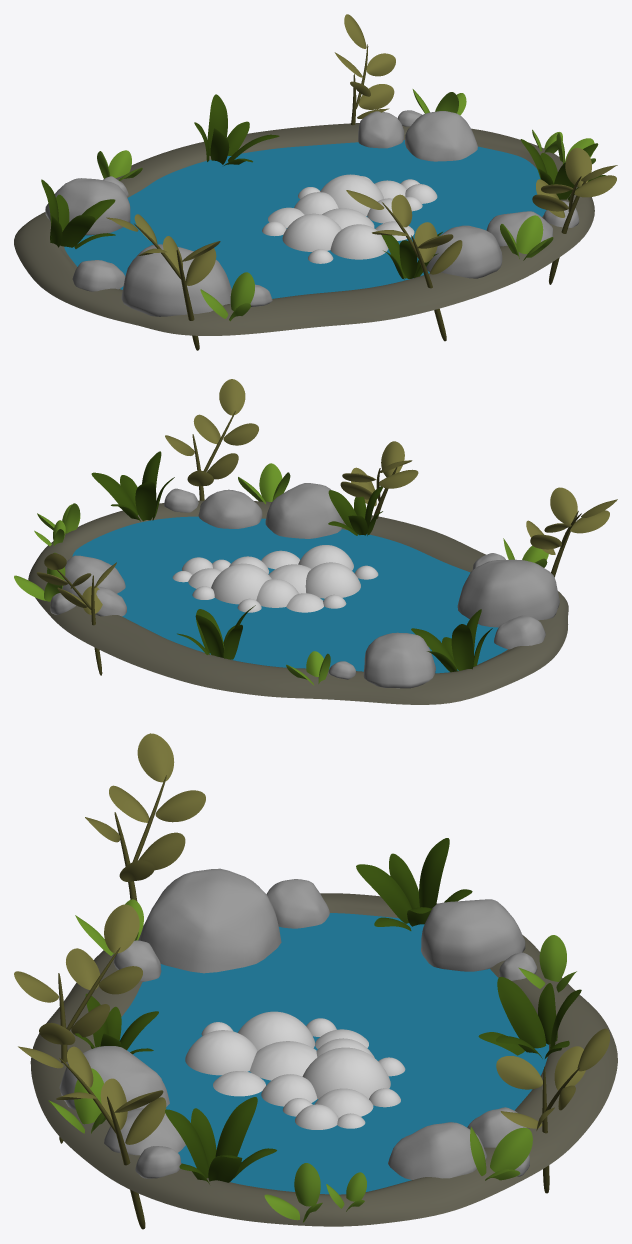
The model's file is nexus_kikkers.fbx.
The picture shows the model from 3 angles, top to bottom: view 1: azimuth 30°, elevation 25°; view 2: azimuth 150°, elevation 25°; view 3: azimuth 270°, elevation 25°; orthographic projection. The views are drawn at different scales.
Visible parts, largest first — view 1: water, vijver, steen_1_2, steen_2_3, steen_1_7, steen_1_6, blad_1_2, blad_1_3, blad_1_4, blad_1, Sphere, Sphere_4 (+16 smaller); view 2: water, vijver, steen_1_2, steen_1_7, steen_1_6, blad_1_2, blad_1, steen_1_1, blad_1_3, Sphere_6, Sphere, steen_2_3 (+18 smaller); view 3: water, vijver, steen_1_2, steen_1_7, blad_1, blad_1_3, steen_2_3, blad_1_4, blad_1_2, Sphere_6, steen_1_6, Sphere_4 (+28 smaller).
Part boxes in pixels (box(x1,y1,x2,y2)): water: box(64, 140, 546, 298); vijver: box(14, 123, 594, 335); steen_1_2: box(121, 244, 231, 316); steen_2_3: box(405, 111, 477, 161); steen_1_7: box(45, 178, 130, 235); steen_1_6: box(426, 225, 502, 278); blad_1_2: box(532, 147, 617, 217); blad_1_3: box(346, 190, 462, 274); blad_1_4: box(334, 14, 395, 118); blad_1: box(106, 214, 220, 285); Sphere: box(282, 213, 341, 251); Sphere_4: box(330, 224, 388, 259); water: box(72, 516, 507, 673); vijver: box(28, 500, 568, 704); steen_1_2: box(457, 559, 559, 627); steen_1_7: box(363, 632, 435, 688); steen_1_6: box(265, 483, 343, 538); blad_1_2: box(165, 379, 258, 486); blad_1: box(526, 487, 617, 554); steen_1_1: box(198, 489, 262, 528); blad_1_3: box(340, 441, 418, 506); Sphere_6: box(211, 563, 271, 604); Sphere: box(305, 562, 360, 598); steen_2_3: box(62, 555, 125, 596); water: box(119, 913, 548, 1194); vijver: box(30, 893, 617, 1226); steen_1_2: box(138, 868, 281, 973); steen_1_7: box(421, 899, 525, 971); blad_1: box(85, 733, 205, 881); blad_1_3: box(14, 904, 142, 1044); steen_2_3: box(388, 1122, 487, 1179); blad_1_4: box(496, 1028, 610, 1130); blad_1_2: box(18, 1046, 166, 1144); Sphere_6: box(302, 1047, 390, 1099); steen_1_6: box(59, 1046, 169, 1111); Sphere_4: box(185, 1030, 257, 1075).
Bounding box in the file's own units: 1255 × 393 × 930.
Materials: 1 (1 with a texture image).
